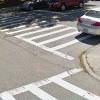Car: (74, 3, 99, 39)
